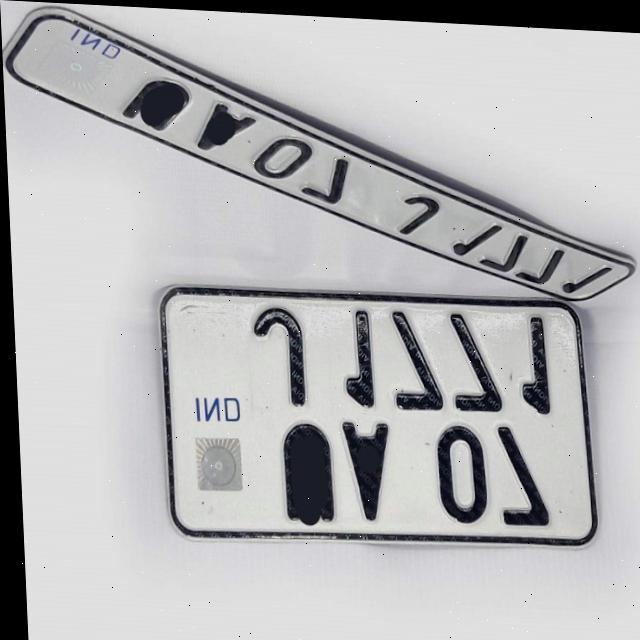plate: (0, 0, 640, 302), (147, 268, 597, 565)
